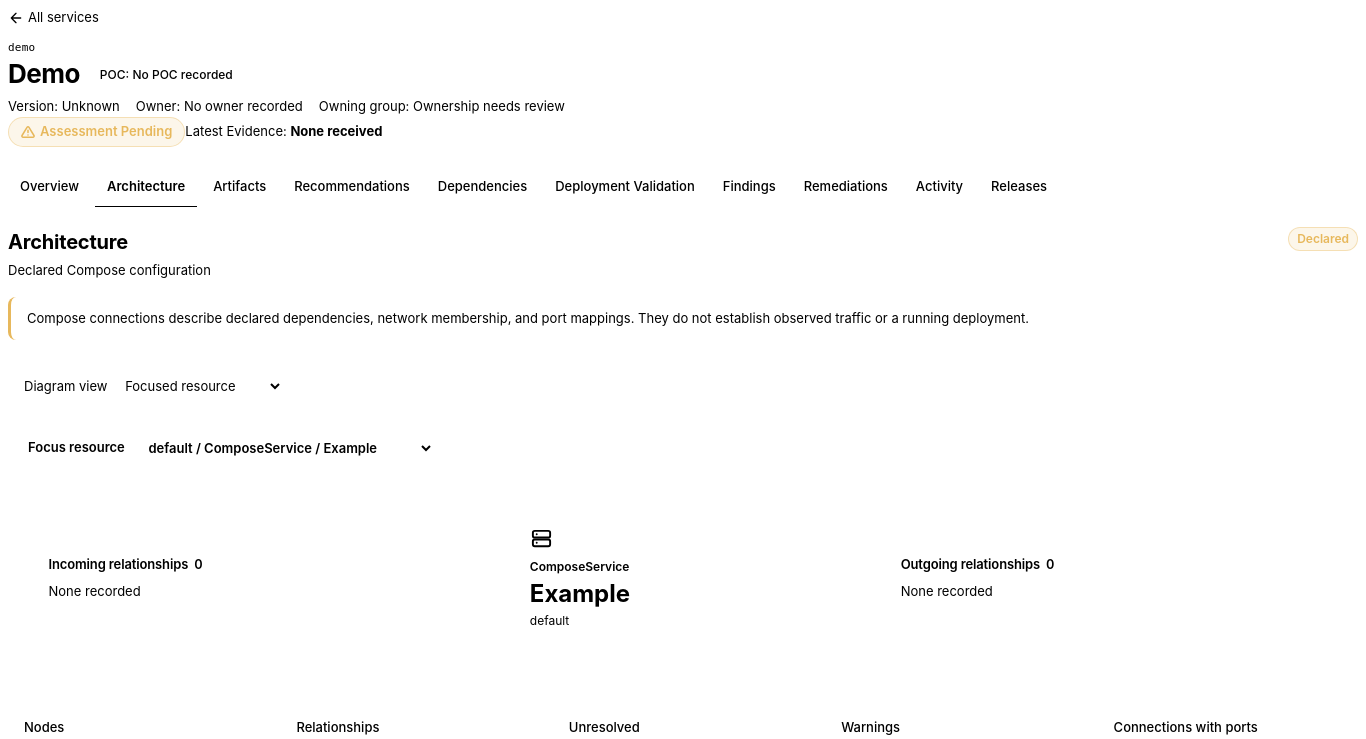
Test: native architecture › shows Compose declarations and port details without offering Kubernetes validation
Expected: the text "Declared Compose configuration" is shown, [8,261,211,281]
Click the button with aria-label "Service · web" at (580, 594), box [530,558,630,630]
(page scrolled)
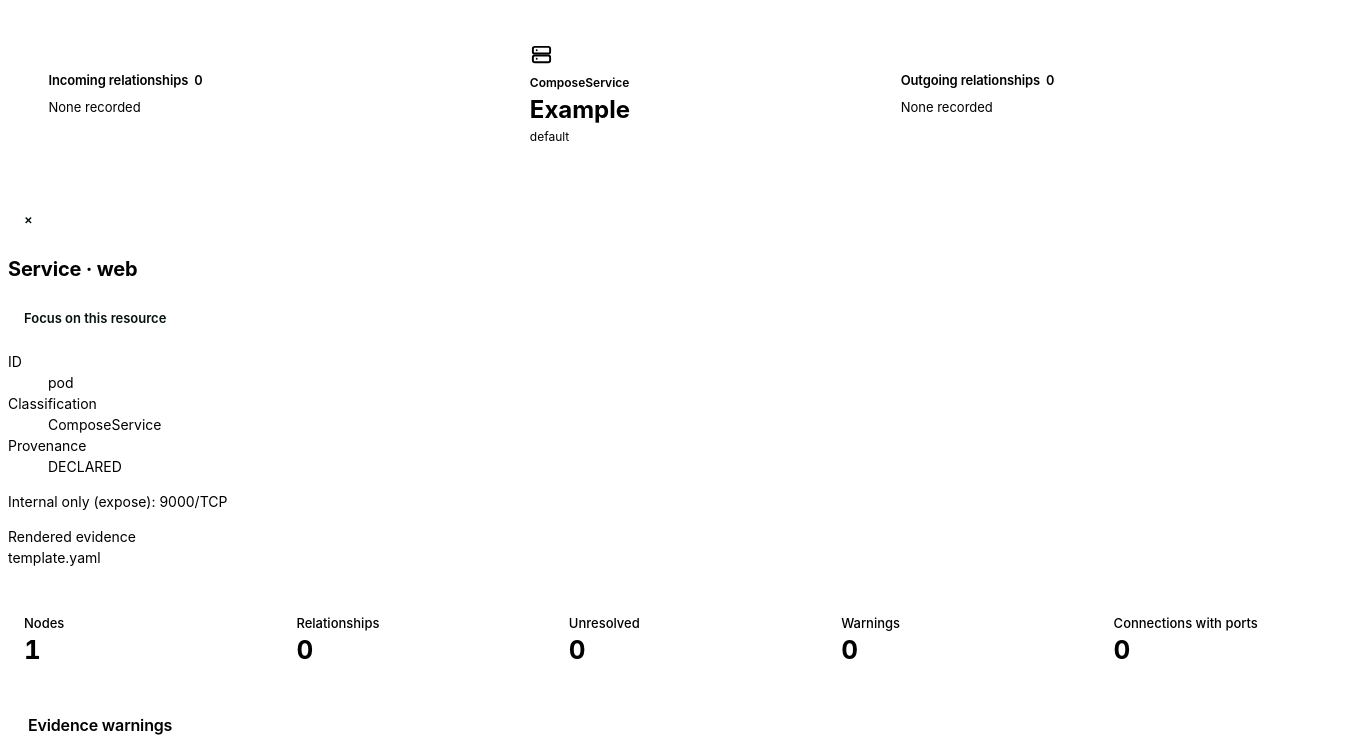
Expected: the element named "Selection details" shows "9000/TCP", [8,202,228,566]
Expected: the element named "Selection details" shows "Internal only (expose)", [8,493,151,510]
